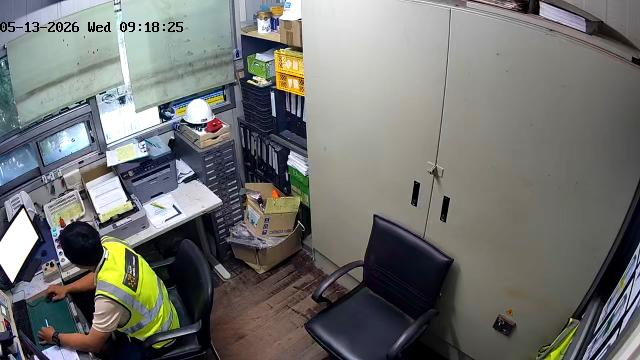Head: (59, 222, 102, 270)
People: (38, 222, 184, 359)
